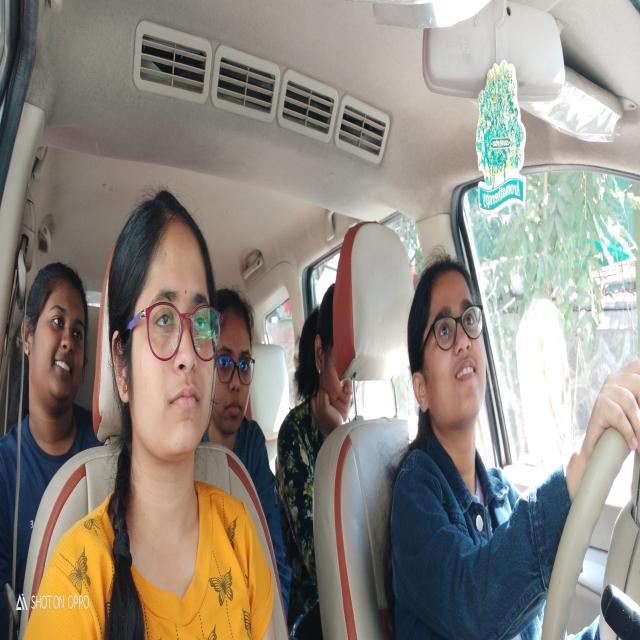person: (106, 178, 218, 461), (408, 264, 489, 432), (22, 265, 90, 416), (301, 286, 364, 430), (217, 283, 264, 436)
